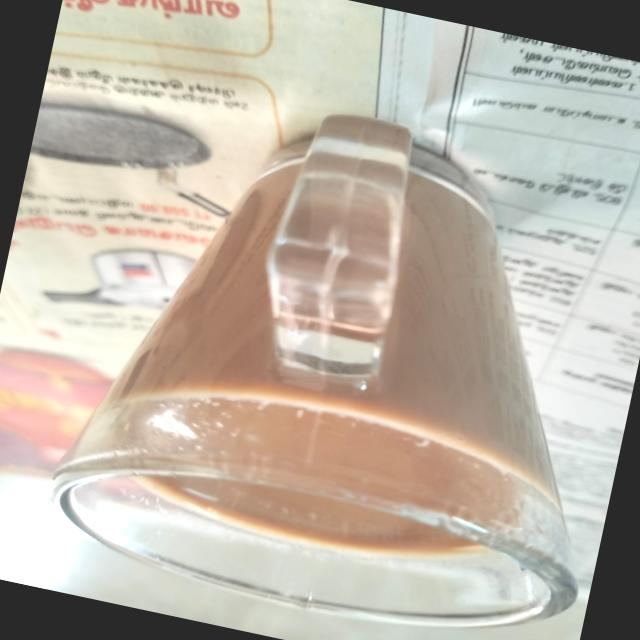glass-VX4N: (24, 63, 640, 640)
